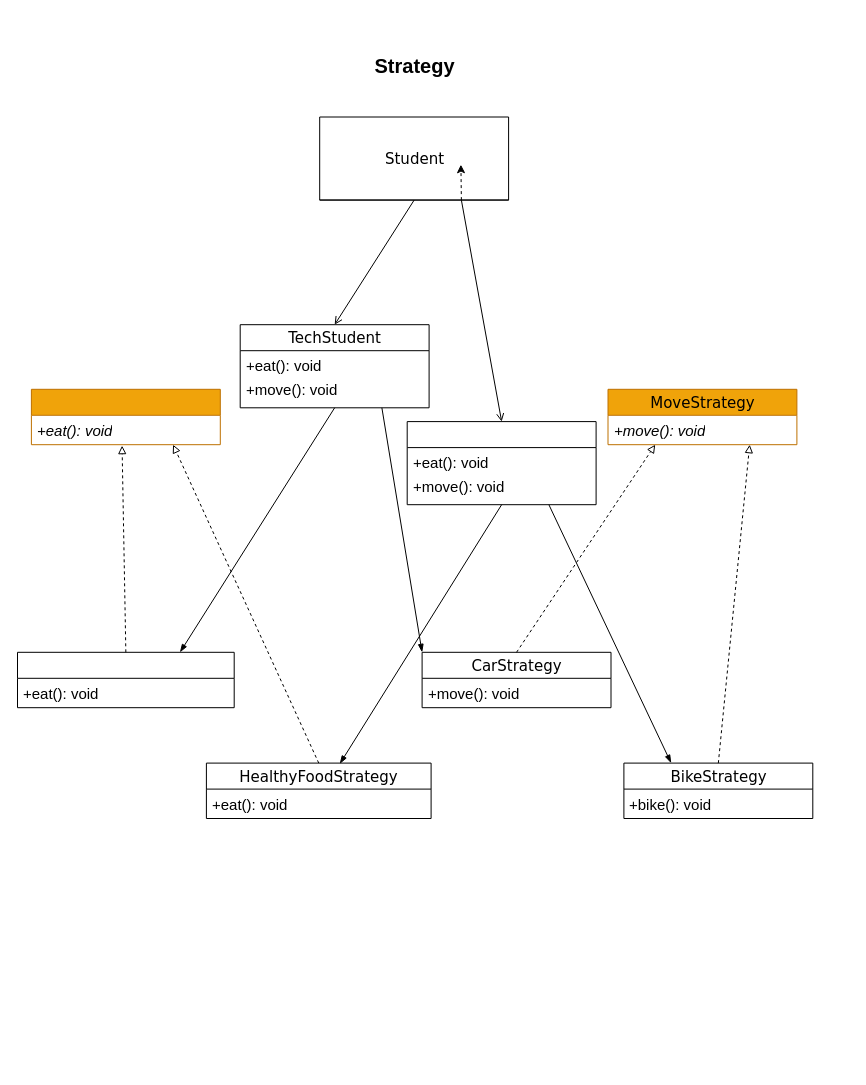
The diagram is 866 pixels wide and 1085 high, and some of its shapes have lost their labels. Here are the shapes that lost their labels. From the top down, the box of each, then its label:
(30, 388, 220, 445): EatStrategy
(406, 421, 596, 505): NoTechStudent
(16, 651, 234, 708): UnhealthyFoodStrategy
